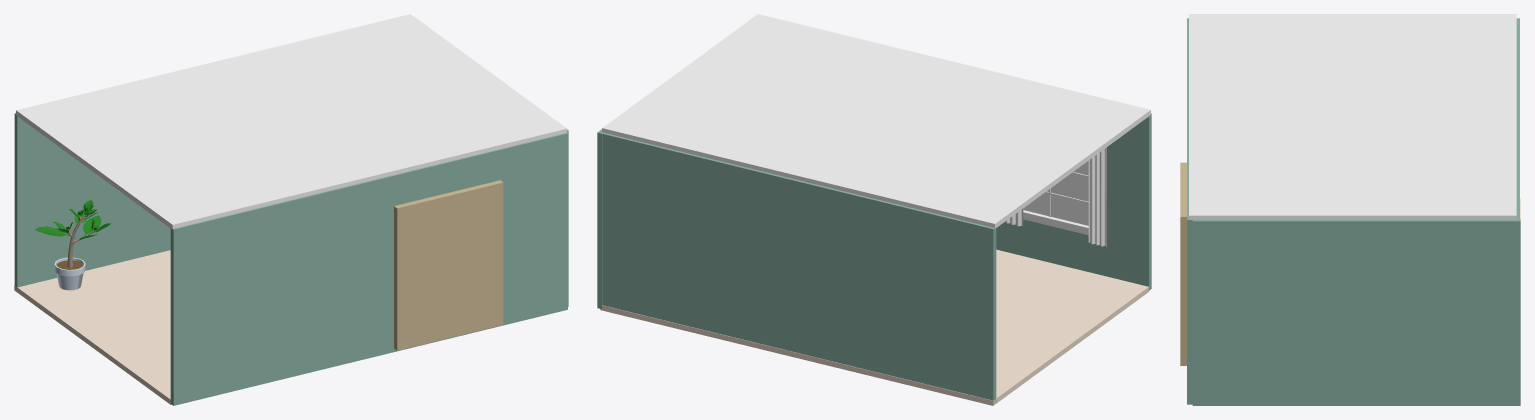
Rendered from roomdraft.glb.
3 views of the same model, side by side, from view 1: azimuth 30°, elevation 25°; view 2: azimuth 150°, elevation 25°; view 3: azimuth 270°, elevation 25° (orthographic). The views are drawn at different scales.
Visible parts, largest first — view 1: ceiling, backwall, dresser, pasted__backwall, floor, stem1, pot; view 2: pasted__backwall, ceiling, floor, backwall, curtain:pCube2, leftwall; view 3: ceiling, leftwall, backwall, dresser, pasted__backwall.
Boxes of the visible parts, left/top/right/bottom form: ceiling: left=16, top=14, right=567, bottom=229; backwall: left=170, top=133, right=567, bottom=405; dresser: left=394, top=180, right=503, bottom=350; pasted__backwall: left=14, top=113, right=170, bottom=288; floor: left=14, top=250, right=171, bottom=404; stem1: left=35, top=200, right=111, bottom=267; pot: left=54, top=257, right=85, bottom=290; pasted__backwall: left=602, top=133, right=996, bottom=404; ceiling: left=602, top=14, right=1150, bottom=228; floor: left=600, top=249, right=1148, bottom=405; backwall: left=996, top=113, right=1151, bottom=290; curtain:pCube2: left=1088, top=147, right=1106, bottom=247; leftwall: left=597, top=129, right=603, bottom=309; ceiling: left=1189, top=14, right=1516, bottom=219; leftwall: left=1192, top=219, right=1520, bottom=405; backwall: left=1187, top=18, right=1192, bottom=404; dresser: left=1180, top=162, right=1186, bottom=365; pasted__backwall: left=1516, top=18, right=1519, bottom=218.
Size of the model in its own units: 0.8065 by 0.3516 by 0.5705.
